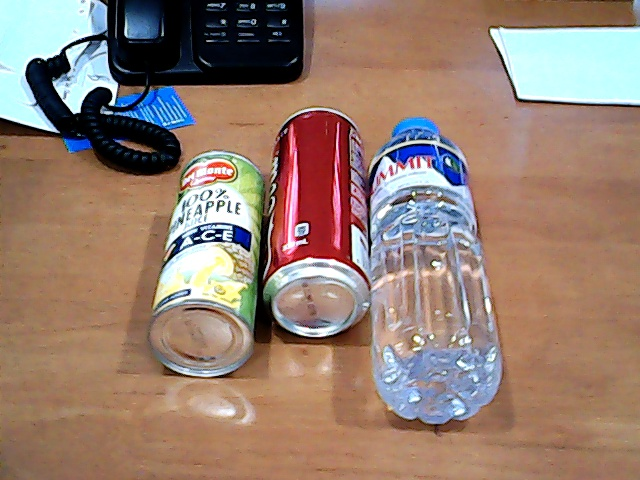Cola: (261, 95, 382, 338)
Pine Juice: (143, 141, 272, 387)
Summit Water: (367, 100, 501, 434)
